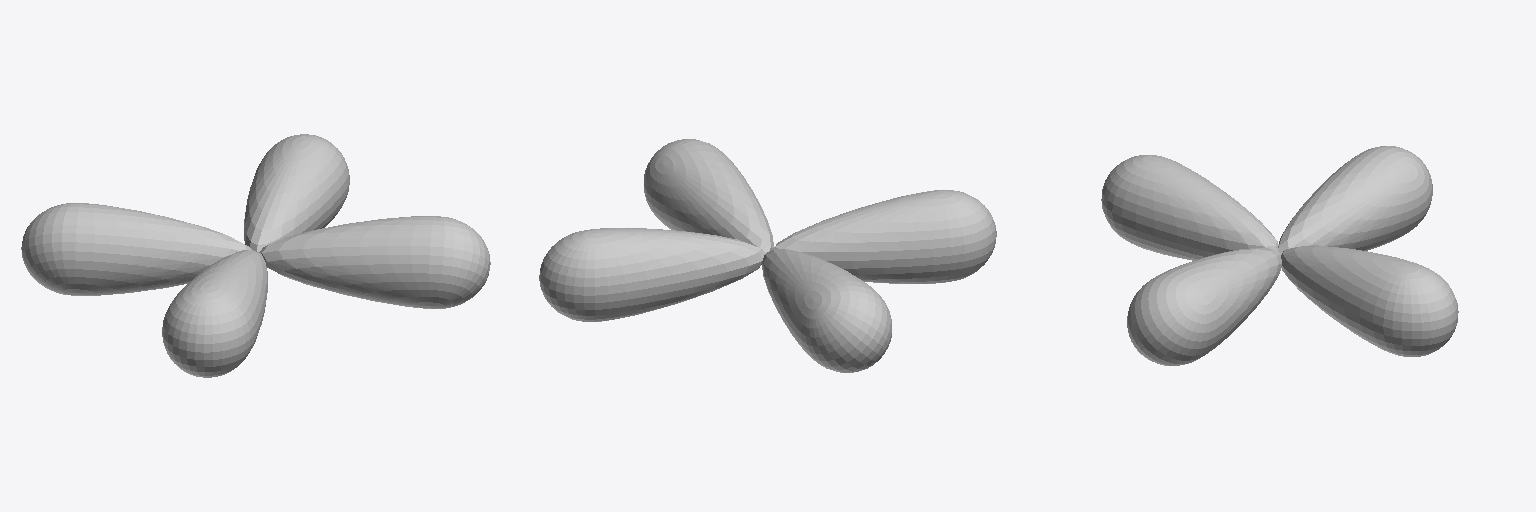
3 renders of one model, left to right at view 1: azimuth 30°, elevation 25°; view 2: azimuth 150°, elevation 25°; view 3: azimuth 270°, elevation 25°, orthographic.
Parts seen in each view (by area): view 1: dx 2.002, dz2.002; view 2: dz2.002, dx 2.002; view 3: dz2.002, dx 2.002.
Part boxes in pixels (bbox=[...]): dx 2.002: bbox=[21, 203, 490, 308]; dz2.002: bbox=[162, 134, 349, 377]; dz2.002: bbox=[539, 190, 996, 321]; dx 2.002: bbox=[644, 139, 891, 372]; dz2.002: bbox=[1101, 155, 1458, 356]; dx 2.002: bbox=[1127, 146, 1432, 365].
Size of the model in its own units: 231 by 53.77 by 206.